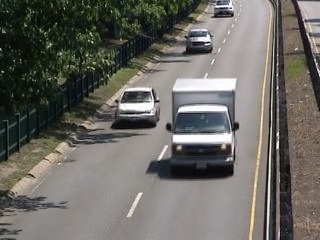car: (115, 87, 161, 125), (184, 28, 216, 55), (212, 1, 236, 18)
truck: (165, 77, 241, 178)
